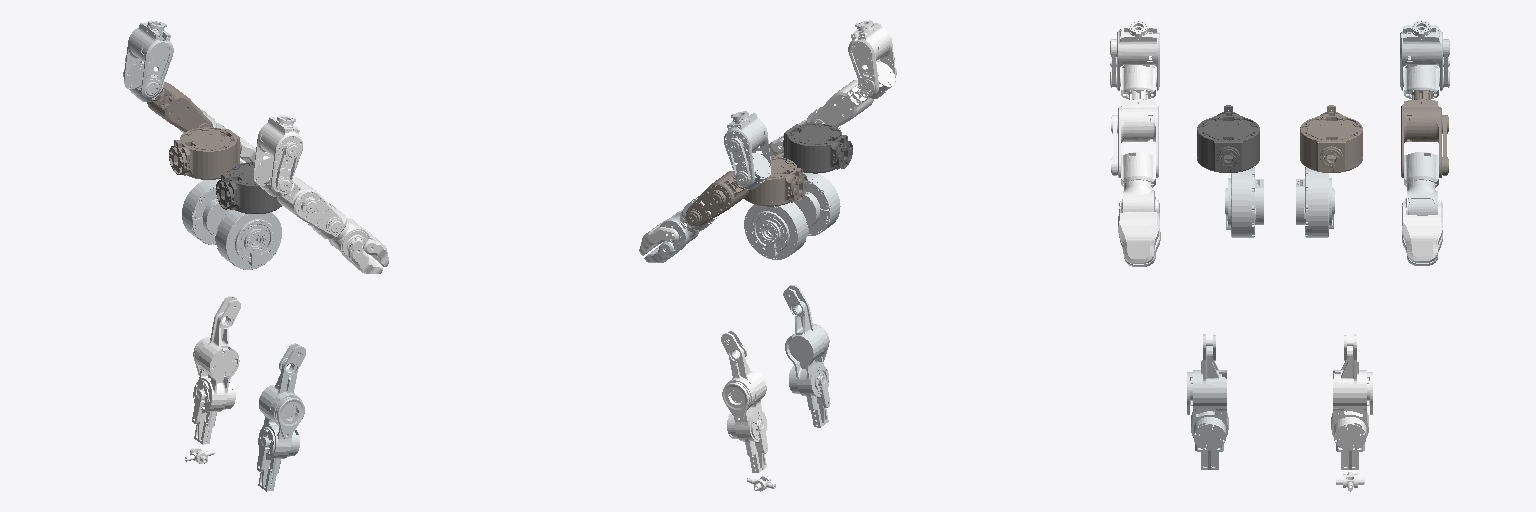
--- What the picture shows (computed from the rendered views, not written in the file) ---
The picture shows the robot from 3 angles, left to right: view 1: azimuth 30°, elevation 25°; view 2: azimuth 150°, elevation 25°; view 3: azimuth 270°, elevation 25°; orthographic projection.
Model Dora2 with 29 links and 28 joints (12 revolute, 16 fixed), rooted at base_link, posed every joint at zero.
Links seen in each view (by area): view 1: l_leg_knee_Link, r_leg_knee_Link, r_leg_hip_yaw_Link, l_leg_hip_roll_Link, r_arm_shoulder_yaw_Link, l_arm_shoulder_yaw_Link, r_leg_hip_roll_Link, l_leg_hip_yaw_Link, r_arm_wrist_yaw1_Link, l_arm_wrist_yaw1_Link, r_arm_claw_link, r_arm_wrist_yaw2_Link (+2 smaller); view 2: r_leg_knee_Link, l_leg_knee_Link, l_leg_hip_yaw_Link, r_leg_hip_roll_Link, l_arm_shoulder_yaw_Link, r_arm_shoulder_yaw_Link, l_leg_hip_roll_Link, r_leg_hip_yaw_Link, l_arm_wrist_yaw1_Link, r_arm_wrist_yaw1_Link, l_arm_wrist_yaw2_Link, l_arm_claw_link (+1 smaller); view 3: l_leg_knee_Link, r_leg_knee_Link, l_leg_hip_roll_Link, r_leg_hip_roll_Link, r_arm_wrist_yaw2_Link, l_arm_wrist_yaw1_Link, r_arm_wrist_yaw1_Link, r_leg_hip_yaw_Link, l_leg_hip_yaw_Link, l_arm_shoulder_yaw_Link, r_arm_shoulder_yaw_Link, l_arm_claw_link (+5 smaller).
Boxes of the visible links, <box> form: l_leg_knee_Link: <box>192,296,240,444</box>; r_leg_knee_Link: <box>257,343,305,491</box>; r_leg_hip_yaw_Link: <box>215,210,281,269</box>; l_leg_hip_roll_Link: <box>169,127,241,179</box>; r_arm_shoulder_yaw_Link: <box>253,115,302,193</box>; l_arm_shoulder_yaw_Link: <box>123,20,173,98</box>; r_leg_hip_roll_Link: <box>216,162,281,213</box>; l_leg_hip_yaw_Link: <box>182,179,229,244</box>; r_arm_wrist_yaw1_Link: <box>277,177,342,234</box>; l_arm_wrist_yaw1_Link: <box>147,82,212,131</box>; r_arm_claw_link: <box>342,230,382,273</box>; r_arm_wrist_yaw2_Link: <box>329,218,388,266</box>; r_leg_knee_Link: <box>783,285,830,427</box>; l_leg_knee_Link: <box>721,330,767,472</box>; l_leg_hip_yaw_Link: <box>744,202,808,259</box>; r_leg_hip_roll_Link: <box>783,123,852,173</box>; l_arm_shoulder_yaw_Link: <box>724,111,771,186</box>; r_arm_shoulder_yaw_Link: <box>848,20,896,95</box>; l_leg_hip_roll_Link: <box>744,156,807,206</box>; r_leg_hip_yaw_Link: <box>794,172,840,235</box>; l_arm_wrist_yaw1_Link: <box>685,171,748,225</box>; r_arm_wrist_yaw1_Link: <box>810,80,873,127</box>; l_arm_wrist_yaw2_Link: <box>644,210,699,262</box>; l_arm_claw_link: <box>639,220,678,255</box>; l_leg_knee_Link: <box>1331,334,1372,469</box>; r_leg_knee_Link: <box>1187,334,1228,469</box>; l_leg_hip_roll_Link: <box>1300,105,1362,172</box>; r_leg_hip_roll_Link: <box>1197,105,1259,172</box>; r_arm_wrist_yaw2_Link: <box>1118,180,1158,263</box>; l_arm_wrist_yaw1_Link: <box>1401,90,1448,177</box>; r_arm_wrist_yaw1_Link: <box>1111,90,1158,177</box>; r_leg_hip_yaw_Link: <box>1225,167,1263,237</box>; l_leg_hip_yaw_Link: <box>1296,167,1334,237</box>; l_arm_shoulder_yaw_Link: <box>1400,20,1449,90</box>; r_arm_shoulder_yaw_Link: <box>1110,20,1159,90</box>; l_arm_claw_link: <box>1402,197,1442,262</box>.
Size in the robot's own frame: 0.2883 by 0.5944 by 0.8828 metres.
19 mesh visuals loaded from 29 distinct referenced files (19 binary STL); not drawn: 10 (reference not matched to a file when rendering).

URDF robot description (Dora2):
<?xml version="1.0" encoding="utf-8"?>
<!-- This URDF was automatically created by SolidWorks to URDF Exporter! Originally created by Stephen Brawner ([email redacted]) 
     Commit Version: 1.6.0-4-g7f85cfe  Build Version: 1.6.7995.38578
     For more information, please see http://wiki.ros.org/sw_urdf_exporter -->
<robot
  name="Dora2">
   <link
    name="base_link">
    <inertial>
      <origin
        xyz="-0.026491 -5.0156E-08 0.050159"
        rpy="0 0 0" />
      <mass
        value="10.009" />
      <inertia
        ixx="0.034427"
        ixy="-9.2543E-07"
        ixz="1.0661E-05"
        iyy="0.023503"
        iyz="1.2551E-05"
        izz="0.022038" />
    </inertial>
    <visual>
      <origin
        xyz="0 0 0"
        rpy="0 0 0" />
      <geometry>
        <mesh
          filename="../meshes_7Dof/base_link.STL" />
      </geometry>
      <material
        name="">
        <color
          rgba="0.89804 0.91765 0.92941 1" />
      </material>
    </visual>
    <!-- <collision>
      <origin
        xyz="0 0 0"
        rpy="0 0 0" />
      <geometry>
        <mesh
          filename="../meshes_7Dof/base_link.STL" />
      </geometry>
    </collision> -->
    <collision>
      <origin
        xyz="0 0. 0.1"
        rpy="0 0 0" />
      <geometry>
        <box size="0.25 0.22 0.32"/>
      </geometry>
    </collision>
  </link>
  <link
    name="l_arm_shoulder_pitch_Link">
    <inertial>
      <origin
        xyz="0.0012154 0.0085194 0.04695"
        rpy="0 0 0" />
      <mass
        value="0.59249" />
      <inertia
        ixx="0.00026821"
        ixy="-1.588E-06"
        ixz="-3.7101E-06"
        iyy="0.00020453"
        iyz="-8.9591E-06"
        izz="0.00021179" />
    </inertial>
    <visual>
      <origin
        xyz="0 0 0"
        rpy="0 0 0" />
      <geometry>
        <mesh
          filename="../meshes_7Dof/l_arm_shoulder_pitch_Link.STL" />
      </geometry>
      <material
        name="">
        <color
          rgba="0.64706 0.61961 0.58824 1" />
      </material>
    </visual>
    <!-- <collision>
      <origin
        xyz="0 0 0"
        rpy="0 0 0" />
      <geometry>
        <mesh
          filename="../meshes_7Dof/l_arm_shoulder_pitch_Link.STL" />
      </geometry>
    </collision> -->
  </link>
  <joint
    name="l_arm_shoulder_pitch_joint"
    type="fixed">
    <origin
      xyz="-0.00094467 0.18217 0.2078"
      rpy="-1.2217 0.2618 0" />
    <parent
      link="base_link" />
    <child
      link="l_arm_shoulder_pitch_Link" />
    <axis
      xyz="0 0 1" />
    <limit
      lower="-2"
      upper="2"
      effort="36"
      velocity="6.28" />
  </joint>
  <link
    name="l_arm_shoulder_roll_Link">
    <inertial>
      <origin
        xyz="6.5565E-05 -2.5633E-06 -0.058315"
        rpy="0 0 0" />
      <mass
        value="0.53087" />
      <inertia
        ixx="0.00033546"
        ixy="-5.1467E-08"
        ixz="-4.6685E-05"
        iyy="0.00037342"
        iyz="7.4288E-09"
        izz="0.00026136" />
    </inertial>
    <visual>
      <origin
        xyz="0 0 0"
        rpy="0 0 0" />
      <geometry>
        <mesh
          filename="../meshes_7Dof/l_arm_shoulder_roll_Link.STL" />
      </geometry>
      <material
        name="">
        <color
          rgba="0.89804 0.91765 0.92941 1" />
      </material>
    </visual>
    <!-- <collision>
      <origin
        xyz="0 0 0"
        rpy="0 0 0" />
      <geometry>
        <mesh
          filename="../meshes_7Dof/l_arm_shoulder_roll_Link.STL" />
      </geometry>
    </collision> -->
  </link>
  <joint
    name="l_arm_shoulder_roll_joint"
    type="fixed">
    <origin
      xyz="0.00094467 0.013172 0.064412"
      rpy="1.2217 0 0" />
    <parent
      link="l_arm_shoulder_pitch_Link" />
    <child
      link="l_arm_shoulder_roll_Link" />
    <axis
      xyz="1 0 0" />
    <limit
      lower="-3"
      upper="0"
      effort="36"
      velocity="6.28" />
  </joint>
  <link
    name="l_arm_shoulder_yaw_Link">
    <inertial>
      <origin
        xyz="0.0011882 0.0067383 -0.053586"
        rpy="0 0 0" />
      <mass
        value="0.67878" />
      <inertia
        ixx="0.00031565"
        ixy="2.9333E-08"
        ixz="-7.6862E-08"
        iyy="0.0003551"
        iyz="1.395E-05"
        izz="0.00023355" />
    </inertial>
    <visual>
      <origin
        xyz="0 0 0"
        rpy="0 0 0" />
      <geometry>
        <mesh
          filename="../meshes_7Dof/l_arm_shoulder_yaw_Link.STL" />
      </geometry>
      <material
        name="">
        <color
          rgba="0.89804 0.91765 0.92941 1" />
      </material>
    </visual>
    <!-- <collision>
      <origin
        xyz="0 0 0"
        rpy="0 0 0" />
      <geometry>
        <mesh
          filename="../meshes_7Dof/l_arm_shoulder_yaw_Link.STL" />
      </geometry>
    </collision> -->
  </link>
  <joint
    name="l_arm_shoulder_yaw_joint"
    type="fixed">
    <origin
      xyz="-0.0012652 0 -0.094377"
      rpy="0 0 0" />
    <parent
      link="l_arm_shoulder_roll_Link" />
    <child
      link="l_arm_shoulder_yaw_Link" />
    <axis
      xyz="0 0 1" />
    <limit
      lower="-2"
      upper="2"
      effort="36"
      velocity="6.28" />
  </joint>
  <link
    name="l_arm_elbow_Link">
    <inertial>
      <origin
        xyz="5.8478E-06 5.3289E-05 -0.0048248"
        rpy="0 0 0" />
      <mass
        value="0.44883" />
      <inertia
        ixx="0.00016487"
        ixy="-2.9245E-07"
        ixz="-1.6498E-07"
        iyy="0.00014407"
        iyz="2.8015E-08"
        izz="0.0002086" />
    </inertial>
    <visual>
      <origin
        xyz="0 0 0"
        rpy="0 0 0" />
      <geometry>
        <mesh
          filename="../meshes_7Dof/l_arm_elbow_Link.STL" />
      </geometry>
      <material
        name="">
        <color
          rgba="0.89804 0.91765 0.92941 1" />
      </material>
    </visual>
    <!-- <collision>
      <origin
        xyz="0 0 0"
        rpy="0 0 0" />
      <geometry>
        <mesh
          filename="../meshes_7Dof/l_arm_elbow_Link.STL" />
      </geometry>
    </collision> -->
  </link>
  <joint
    name="l_arm_elbow_joint"
    type="fixed">
    <origin
      xyz="0.0012652 0 -0.11612"
      rpy="0 -1.047 0" />
    <parent
      link="l_arm_shoulder_yaw_Link" />
    <child
      link="l_arm_elbow_Link" />
    <axis
      xyz="0 1 0" />
    <limit
      lower="-1.5"
      upper="1.5"
      effort="36"
      velocity="6.28" />
  </joint>
  <link
    name="l_arm_wrist_yaw1_Link">
    <inertial>
      <origin
        xyz="0.00063942 0.0031627 -0.057666"
        rpy="0 0 0" />
      <mass
        value="0.81511" />
      <inertia
        ixx="0.00035549"
        ixy="-3.7663E-08"
        ixz="-1.9544E-07"
        iyy="0.00043001"
        iyz="1.7696E-05"
        izz="0.00024625" />
    </inertial>
    <visual>
      <origin
        xyz="0 0 0"
        rpy="0 0 0" />
      <geometry>
        <mesh
          filename="../meshes_7Dof/l_arm_wrist_yaw1_Link.STL" />
      </geometry>
      <material
        name="">
        <color
          rgba="0.64706 0.61961 0.58824 1" />
      </material>
    </visual>
    <collision>
      <origin
        xyz="0 0 0"
        rpy="0 0 0" />
      <geometry>
        <mesh
          filename="../meshes_7Dof/l_arm_wrist_yaw1_Link.STL" />
      </geometry>
    </collision>
  </link>
  <joint
    name="l_arm_wrist_yaw1_joint"
    type="fixed">
    <origin
      xyz="-0.00068626 2.7758E-05 -0.033039"
      rpy="0 0 0" />
    <parent
      link="l_arm_elbow_Link" />
    <child
      link="l_arm_wrist_yaw1_Link" />
    <axis
      xyz="0 0 1" />
    <limit
      lower="0"
      upper="0"
      effort="36"
      velocity="6.28" />
  </joint>
  <link
    name="l_arm_wrist_pitch_Link">
    <inertial>
      <origin
        xyz="-8.7585E-07 -5.7309E-05 -0.0094885"
        rpy="0 0 0" />
      <mass
        value="0.44562" />
      <inertia
        ixx="0.00016272"
        ixy="3.1754E-07"
        ixz="-1.954E-07"
        iyy="0.00014662"
        iyz="-2.7335E-08"
        izz="0.00020462" />
    </inertial>
    <visual>
      <origin
        xyz="0 0 0"
        rpy="0 0 0" />
      <geometry>
        <mesh
          filename="../meshes_7Dof/l_arm_wrist_pitch_Link.STL" />
      </geometry>
      <material
        name="">
        <color
          rgba="0.89804 0.91765 0.92941 1" />
      </material>
    </visual>
    <!-- <collision>
      <origin
        xyz="0 0 0"
        rpy="0 0 0" />
      <geometry>
        <mesh
          filename="../meshes_7Dof/l_arm_wrist_pitch_Link.STL" />
      </geometry>
    </collision> -->
  </link>
  <joint
    name="l_arm_wrist_pitch_joint"
    type="fixed">
    <origin
      xyz="0.00068626 -2.7758E-05 -0.12886"
      rpy="0 0 0" />
    <parent
      link="l_arm_wrist_yaw1_Link" />
    <child
      link="l_arm_wrist_pitch_Link" />
    <axis
      xyz="0 1 0" />
    <limit
      lower="0"
      upper="0"
      effort="0"
      velocity="0" />
  </joint>
  <link
    name="l_arm_wrist_yaw2_Link">
    <inertial>
      <origin
        xyz="-0.0046238 0.001297 -0.051174"
        rpy="0 0 0" />
      <mass
        value="0.66283" />
      <inertia
        ixx="0.00030582"
        ixy="-3.1183E-06"
        ixz="-6.7398E-06"
        iyy="0.00032338"
        iyz="1.0341E-05"
        izz="0.00024221" />
    </inertial>
    <visual>
      <origin
        xyz="0 0 0"
        rpy="0 0 0" />
      <geometry>
        <mesh
          filename="../meshes_7Dof/l_arm_wrist_yaw2_Link.STL" />
      </geometry>
      <material
        name="">
        <color
          rgba="0.89804 0.91765 0.92941 1" />
      </material>
    </visual>
    <!-- <collision>
      <origin
        xyz="0 0 0"
        rpy="0 0 0" />
      <geometry>
        <mesh
          filename="../meshes_7Dof/l_arm_wrist_yaw2_Link.STL" />
      </geometry>
    </collision> -->
  </link>
  <joint
    name="l_arm_wrist_yaw2_joint"
    type="fixed">
    <origin
      xyz="0.0012607 -0.00010591 -0.033777"
      rpy="0 0 0" />
    <parent
      link="l_arm_wrist_pitch_Link" />
    <child
      link="l_arm_wrist_yaw2_Link" />
    <axis
      xyz="0 0 1" />
    <limit
      lower="0"
      upper="0"
      effort="0"
      velocity="0" />
  </joint>
  <link
    name="l_arm_claw_link">
    <inertial>
      <origin
        xyz="0.014927 -0.00021226 -0.047831"
        rpy="0 0 0" />
      <mass
        value="0.13307" />
      <inertia
        ixx="0.00016061"
        ixy="-3.6552E-06"
        ixz="1.1664E-05"
        iyy="0.00011707"
        iyz="1.0687E-05"
        izz="7.2166E-05" />
    </inertial>
    <visual>
      <origin
        xyz="0 0 0"
        rpy="0 0 0" />
      <geometry>
        <mesh
          filename="../meshes_7Dof/l_arm_claw_link.STL" />
      </geometry>
      <material
        name="">
        <color
          rgba="1 1 1 1" />
      </material>
    </visual>
    <collision>
      <origin
        xyz="0 0 0"
        rpy="0 0 0" />
      <geometry>
        <mesh
          filename="../meshes_7Dof/l_arm_claw_link.STL" />
      </geometry>
    </collision>
  </link>
  <joint
    name="l_arm_claw_joint"
    type="fixed">
    <origin
      xyz="0.00013819 0.00010591 -0.045636"
      rpy="0 0 0" />
    <parent
      link="l_arm_wrist_yaw2_Link" />
    <child
      link="l_arm_claw_link" />
    <axis
      xyz="0 1 0" />
    <limit
      lower="0"
      upper="0"
      effort="0"
      velocity="0" />
  </joint>

  <link
    name="r_arm_shoulder_pitch_Link">
    <inertial>
      <origin
        xyz="0.0012156 -0.0085193 0.04695"
        rpy="0 0 0" />
      <mass
        value="0.59248" />
      <inertia
        ixx="0.00026821"
        ixy="1.5881E-06"
        ixz="-3.7098E-06"
        iyy="0.00020453"
        iyz="8.9597E-06"
        izz="0.00021179" />
    </inertial>
    <visual>
      <origin
        xyz="0 0 0"
        rpy="0 0 0" />
      <geometry>
        <mesh
          filename="../meshes_7Dof/r_arm_shoulder_pitch_Link.STL" />
      </geometry>
      <material
        name="">
        <color
          rgba="1 1 1 1" />
      </material>
    </visual>
    <!-- <collision>
      <origin
        xyz="0 0 0"
        rpy="0 0 0" />
      <geometry>
        <mesh
          filename="../meshes_7Dof/r_arm_shoulder_pitch_Link.STL" />
      </geometry>
    </collision> -->
  </link>
  <joint
    name="r_arm_shoulder_pitch_joint"
    type="fixed">
    <origin
      xyz="-0.00094467 -0.18217 0.2078"
      rpy="1.2217 0.2618 0" />
    <parent
      link="base_link" />
    <child
      link="r_arm_shoulder_pitch_Link" />
    <axis
      xyz="0 0 1" />
    <limit
      lower="-2"
      upper="2"
      effort="36"
      velocity="6.28" />
  </joint>
  <link
    name="r_arm_shoulder_roll_Link">
    <inertial>
      <origin
        xyz="6.5061E-05 2.5217E-06 -0.058315"
        rpy="0 0 0" />
      <mass
        value="0.53088" />
      <inertia
        ixx="0.00033544"
        ixy="5.1545E-08"
        ixz="-4.6685E-05"
        iyy="0.00037344"
        iyz="-2.0186E-09"
        izz="0.00026137" />
    </inertial>
    <visual>
      <origin
        xyz="0 0 0"
        rpy="0 0 0" />
      <geometry>
        <mesh
          filename="../meshes_7Dof/r_arm_shoulder_roll_Link.STL" />
      </geometry>
      <material
        name="">
        <color
          rgba="1 1 1 1" />
      </material>
    </visual>
    <!-- <collision>
      <origin
        xyz="0 0 0"
        rpy="0 0 0" />
      <geometry>
        <mesh
          filename="../meshes_7Dof/r_arm_shoulder_roll_Link.STL" />
      </geometry>
    </collision> -->
  </link>
  <joint
    name="r_arm_shoulder_roll_joint"
    type="fixed">
    <origin
      xyz="0.00094467 -0.013172 0.064412"
      rpy="-1.2217 0 0" />
    <parent
      link="r_arm_shoulder_pitch_Link" />
    <child
      link="r_arm_shoulder_roll_Link" />
    <axis
      xyz="1 0 0" />
    <limit
      lower="0"
      upper="3"
      effort="36"
      velocity="6.28" />
  </joint>
  <link
    name="r_arm_shoulder_yaw_Link">
    <inertial>
      <origin
        xyz="0.0011882 -0.0067383 -0.053586"
        rpy="0 0 0" />
      <mass
        value="0.67878" />
      <inertia
        ixx="0.00031565"
        ixy="-2.9283E-08"
        ixz="-7.7015E-08"
        iyy="0.0003551"
        iyz="-1.395E-05"
        izz="0.00023355" />
    </inertial>
    <visual>
      <origin
        xyz="0 0 0"
        rpy="0 0 0" />
      <geometry>
        <mesh
          filename="../meshes_7Dof/r_arm_shoulder_yaw_Link.STL" />
      </geometry>
      <material
        name="">
        <color
          rgba="1 1 1 1" />
      </material>
    </visual>
    <!-- <collision>
      <origin
        xyz="0 0 0"
        rpy="0 0 0" />
      <geometry>
        <mesh
          filename="../meshes_7Dof/r_arm_shoulder_yaw_Link.STL" />
      </geometry>
    </collision> -->
  </link>
  <joint
    name="r_arm_shoulder_yaw_joint"
    type="fixed">
    <origin
      xyz="-0.0012652 0 -0.094377"
      rpy="0 0 0" />
    <parent
      link="r_arm_shoulder_roll_Link" />
    <child
      link="r_arm_shoulder_yaw_Link" />
    <axis
      xyz="0 0 1" />
    <limit
      lower="-2"
      upper="2"
      effort="0"
      velocity="0" />
  </joint>
  <link
    name="r_arm_elbow_Link">
    <inertial>
      <origin
        xyz="5.8478E-06 -5.3289E-05 -0.0048248"
        rpy="0 0 0" />
      <mass
        value="0.44883" />
      <inertia
        ixx="0.00016487"
        ixy="2.9245E-07"
        ixz="-1.6498E-07"
        iyy="0.00014407"
        iyz="-2.8015E-08"
        izz="0.0002086" />
    </inertial>
    <visual>
      <origin
        xyz="0 0 0"
        rpy="0 0 0" />
      <geometry>
        <mesh
          filename="../meshes_7Dof/r_arm_elbow_Link.STL" />
      </geometry>
      <material
        name="">
        <color
          rgba="1 1 1 1" />
      </material>
    </visual>
    <!-- <collision>
      <origin
        xyz="0 0 0"
        rpy="0 0 0" />
      <geometry>
        <mesh
          filename="../meshes_7Dof/r_arm_elbow_Link.STL" />
      </geometry>
    </collision> -->
  </link>
  <joint
    name="r_arm_elbow_joint"
    type="fixed">
    <origin
      xyz="0.0012652 0 -0.11612"
      rpy="0 -1.047 0" />
    <parent
      link="r_arm_shoulder_yaw_Link" />
    <child
      link="r_arm_elbow_Link" />
    <axis
      xyz="0 1 0" />
    <limit
      lower="-1.5"
      upper="1.5"
      effort="36"
      velocity="6.28" />
  </joint>
  <link
    name="r_arm_wrist_yaw1_Link">
    <inertial>
      <origin
        xyz="0.00063942 -0.0031627 -0.057666"
        rpy="0 0 0" />
      <mass
        value="0.81511" />
      <inertia
        ixx="0.00035549"
        ixy="3.7663E-08"
        ixz="-1.9544E-07"
        iyy="0.00043001"
        iyz="-1.7696E-05"
        izz="0.00024625" />
    </inertial>
    <visual>
      <origin
        xyz="0 0 0"
        rpy="0 0 0" />
      <geometry>
        <mesh
          filename="../meshes_7Dof/r_arm_wrist_yaw1_Link.STL" />
      </geometry>
      <material
        name="">
        <color
          rgba="1 1 1 1" />
      </material>
    </visual>
    <collision>
      <origin
        xyz="0 0 0"
        rpy="0 0 0" />
      <geometry>
        <mesh
          filename="../meshes_7Dof/r_arm_wrist_yaw1_Link.STL" />
      </geometry>
    </collision>
  </link>
  <joint
    name="r_arm_wrist_yaw1_joint"
    type="fixed">
    <origin
      xyz="-0.00068626 -2.7758E-05 -0.033039"
      rpy="0 0 0" />
    <parent
      link="r_arm_elbow_Link" />
    <child
      link="r_arm_wrist_yaw1_Link" />
    <axis
      xyz="0 0 1" />
    <limit
      lower="0"
      upper="0"
      effort="0"
      velocity="0" />
  </joint>
  <link
    name="r_arm_wrist_pitch_Link">
    <inertial>
      <origin
        xyz="-4.6206E-05 6.1016E-05 -0.010617"
        rpy="0 0 0" />
      <mass
        value="0.44562" />
      <inertia
        ixx="7.367E-05"
        ixy="-1.093E-07"
        ixz="-2.03E-07"
        iyy="5.7846E-05"
        iyz="9.4515E-09"
        izz="8.7435E-05" />
    </inertial>
    <visual>
      <origin
        xyz="0 0 0"
        rpy="0 0 0" />
      <geometry>
        <mesh
          filename="../meshes_7Dof/r_arm_wrist_pitch_Link.STL" />
      </geometry>
      <material
        name="">
        <color
          rgba="1 1 1 1" />
      </material>
    </visual>
    <!-- <collision>
      <origin
        xyz="0 0 0"
        rpy="0 0 0" />
      <geometry>
        <mesh
          filename="../meshes_7Dof/r_arm_wrist_pitch_Link.STL" />
      </geometry>
    </collision> -->
  </link>
  <joint
    name="r_arm_wrist_pitch_joint"
    type="fixed">
    <origin
      xyz="0.00068626 2.7758E-05 -0.12886"
      rpy="0 0 0" />
    <parent
      link="r_arm_wrist_yaw1_Link" />
    <child
      link="r_arm_wrist_pitch_Link" />
    <axis
      xyz="0 1 0" />
    <limit
      lower="0"
      upper="0"
      effort="0"
      velocity="0" />
  </joint>
  <link
    name="r_arm_wrist_yaw2_Link">
    <inertial>
      <origin
        xyz="0.0074699 0.0029676 -0.055476"
        rpy="0 0 0" />
      <mass
        value="0.66283" />
      <inertia
        ixx="0.00021748"
        ixy="2.4815E-06"
        ixz="7.3738E-06"
        iyy="0.00020586"
        iyz="9.927E-06"
        izz="0.00015306" />
    </inertial>
    <visual>
      <origin
        xyz="0 0 0"
        rpy="0 0 0" />
      <geometry>
        <mesh
          filename="../meshes_7Dof/r_arm_wrist_yaw2_Link.STL" />
      </geometry>
      <material
        name="">
        <color
          rgba="1 1 1 1" />
      </material>
    </visual>
    <!-- <collision>
      <origin
        xyz="0 0 0"
        rpy="0 0 0" />
      <geometry>
        <mesh
          filename="../meshes_7Dof/r_arm_wrist_yaw2_Link.STL" />
      </geometry>
    </collision> -->
  </link>
  <joint
    name="r_arm_wrist_yaw2_joint"
    type="fixed">
    <origin
      xyz="-0.0012648 -3.2137E-05 -0.033777"
      rpy="0 0 0" />
    <parent
      link="r_arm_wrist_pitch_Link" />
    <child
      link="r_arm_wrist_yaw2_Link" />
    <axis
      xyz="0 0 1" />
    <limit
      lower="0"
      upper="0"
      effort="0"
      velocity="0" />
  </joint>
  <link
    name="r_arm_claw_link">
    <inertial>
      <origin
        xyz="-0.017709 0.00074094 -0.047831"
        rpy="0 0 0" />
      <mass
        value="0.13307" />
      <inertia
        ixx="0.00016088"
        ixy="1.0932E-06"
        ixz="-1.102E-05"
        iyy="0.00011679"
        iyz="1.135E-05"
        izz="7.2165E-05" />
    </inertial>
    <visual>
      <origin
        xyz="0 0 0"
        rpy="0 0 0" />
      <geometry>
        <mesh
          filename="../meshes_7Dof/r_arm_claw_link.STL" />
      </geometry>
      <material
        name="">
        <color
          rgba="1 1 1 1" />
      </material>
    </visual>
    <collision>
      <origin
        xyz="0 0 0"
        rpy="0 0 0" />
      <geometry>
        <mesh
          filename="../meshes_7Dof/r_arm_claw_link.STL" />
      </geometry>
    </collision>
  </link>
  <joint
    name="r_arm_claw_joint"
    type="fixed">
    <origin
      xyz="0.0026637 3.2137E-05 -0.045636"
      rpy="0 0 0" />
    <parent
      link="r_arm_wrist_yaw2_Link" />
    <child
      link="r_arm_claw_link" />
    <axis
      xyz="0 1 0" />
    <limit
      lower="1"
      upper="1"
      effort="1"
      velocity="1" />
  </joint>



  <link
    name="l_leg_hip_roll_Link">
    <inertial>
      <origin
        xyz="0.073997 -2.6118E-05 -0.00038831"
        rpy="0 0 0" />
      <mass
        value="1.2237" />
      <inertia
        ixx="0.0010875"
        ixy="2.5346E-06"
        ixz="4.9227E-06"
        iyy="0.0012014"
        iyz="-2.996E-07"
        izz="0.0021103" />
    </inertial>
    <visual>
      <origin
        xyz="0 0 0"
        rpy="0 0 0" />
      <geometry>
        <mesh
          filename="../meshes_7Dof/l_leg_hip_roll_Link.STL" />
      </geometry>
      <material
        name="">
        <color
          rgba="0.64706 0.61961 0.58824 1" />
      </material>
    </visual>
    <!-- <collision>
      <origin
        xyz="0 0 0"
        rpy="0 0 0" />
      <geometry>
        <mesh
          filename="../meshes_7Dof/l_leg_hip_roll_Link.STL" />
      </geometry>
    </collision> -->
  </link>
  <joint
    name="l_leg_hip_roll_joint"
    type="revolute">
    <origin
      xyz="-0.0792 0.09002 -0.085"
      rpy="0 0 0" />
    <parent
      link="base_link" />
    <child
      link="l_leg_hip_roll_Link" />
    <axis
      xyz="1 0 0" />
    <limit
      lower="-0.3"
      upper="1"
      effort="90"
      velocity="12" />
  </joint>
  <link
    name="l_leg_hip_yaw_Link">
    <inertial>
      <origin
        xyz="0.00018298 -0.018275 -0.069994"
        rpy="0 0 0" />
      <mass
        value="1.5439" />
      <inertia
        ixx="0.0016181"
        ixy="1.229E-06"
        ixz="-2.3738E-06"
        iyy="0.0028764"
        iyz="2.6967E-06"
        izz="0.0014519" />
    </inertial>
    <visual>
      <origin
        xyz="0 0 0"
        rpy="0 0 0" />
      <geometry>
        <mesh
          filename="../meshes_7Dof/l_leg_hip_yaw_Link.STL" />
      </geometry>
      <material
        name="">
        <color
          rgba="0.89804 0.91765 0.92941 1" />
      </material>
    </visual>
    <collision>
      <origin
        xyz="0 0 0"
        rpy="0 0 0" />
      <geometry>
        <mesh
          filename="../meshes_7Dof/l_leg_hip_yaw_Link.STL" />
      </geometry>
    </collision>
  </link>
  <joint
    name="l_leg_hip_yaw_joint"
    type="revolute">
    <origin
      xyz="0.0815 0 -0.0375"
      rpy="0 0 0" />
    <parent
      link="l_leg_hip_roll_Link" />
    <child
      link="l_leg_hip_yaw_Link" />
    <axis
      xyz="0 0 1" />
    <limit
      lower="-0.75"
      upper="1.05"
      effort="90"
      velocity="12" />
  </joint>
  <link
    name="l_leg_hip_pitch_Link">
    <inertial>
      <origin
        xyz="0.00263050346808996 0.0505924691116392 -0.0509281264870309"
        rpy="0 0 0" />
      <mass
        value="2.63780166885626" />
      <inertia
        ixx="0.0128050639410327"
        ixy="-7.30670824907572E-06"
        ixz="0.00012322434413997"
        iyy="0.0146659167630542"
        iyz="0.000182392843008207"
        izz="0.00218142025359868" />
    </inertial>
    <visual>
      <origin
        xyz="0 0 0"
        rpy="0 0 0" />
      <geometry>
        <mesh
          filename="../meshes_7Dof/l_leg_hip_pitch_Link.STL" />
      </geometry>
      <material
        name="">
        <color
          rgba="1 1 1 1" />
      </material>
    </visual>
    <collision>
      <origin
        xyz="0 0 0"
        rpy="0 0 0" />
      <geometry>
        <mesh
          filename="../meshes_7Dof/l_leg_hip_pitch_Link.STL" />
      </geometry>
    </collision>
  </link>
  <joint
    name="l_leg_hip_pitch_joint"
    type="revolute">
    <origin
      xyz="0 0 -0.076"
      rpy="0 -0.2 0" />
    <parent
      link="l_leg_hip_yaw_Link" />
    <child
      link="l_leg_hip_pitch_Link" />
    <axis
      xyz="0 1 0" />
    <limit
      lower="-1.12"
      upper="0.88"
      effort="150"
      velocity="12" />
  </joint>
  <link
    name="l_leg_knee_Link">
    <inertial>
      <origin
        xyz="0.0026677 0.0022197 -0.12804"
        rpy="0 0 0" />
      <mass
        value="1.3457" />
      <inertia
        ixx="0.0022506"
        ixy="-2.3667E-06"
        ixz="-2.2148E-05"
        iyy="0.0022436"
        iyz="-4.5481E-05"
        izz="0.00046377" />
    </inertial>
    <visual>
      <origin
        xyz="0 0 0"
        rpy="0 0 0" />
      <geometry>
        <mesh
          filename="../meshes_7Dof/l_leg_knee_Link.STL" />
      </geometry>
      <material
        name="">
        <color
          rgba="1 1 1 1" />
      </material>
    </visual>
    <collision>
      <origin
        xyz="0 0 0"
        rpy="0 0 0" />
      <geometry>
        <mesh
          filename="../meshes_7Dof/l_leg_knee_Link.STL" />
      </geometry>
    </collision>
  </link>
  <joint
    name="l_leg_knee_joint"
    type="revolute">
    <origin
      xyz="0 0.032659 -0.27"
      rpy="0 0.4 0" />
    <parent
      link="l_leg_hip_pitch_Link" />
    <child
      link="l_leg_knee_Link" />
    <axis
      xyz="0 1 0" />
    <limit
      lower="-0.28"
      upper="1.6"
      effort="150"
      velocity="12" />
  </joint>
  <link
    name="l_leg_ankle_pitch_Link">
    <inertial>
      <origin
        xyz="0.0010416 3.8669E-09 -9.735E-10"
        rpy="0 0 0" />
      <mass
        value="0.089954" />
      <inertia
        ixx="1.1624E-05"
        ixy="6.8819E-12"
        ixz="-6.205E-13"
        iyy="1.4297E-05"
        iyz="7.1496E-13"
        izz="2.1929E-05" />
    </inertial>
    <visual>
      <origin
        xyz="0 0 0"
        rpy="0 0 0" />
      <geometry>
        <mesh
          filename="../meshes_7Dof/l_leg_ankle_pitch_Link.STL" />
      </geometry>
      <material
        name="">
        <color
          rgba="1 1 1 1" />
      </material>
    </visual>
    <!-- <collision>
      <origin
        xyz="0 0 0"
        rpy="0 0 0" />
      <geometry>
        <mesh
          filename="../meshes_7Dof/l_leg_ankle_pitch_Link.STL" />
      </geometry>
    </collision> -->
  </link>
  <joint
    name="l_leg_ankle_pitch_joint"
    type="revolute">
    <origin
      xyz="0 0 -0.28"
      rpy="0 -0.2 0" />
    <parent
      link="l_leg_knee_Link" />
    <child
      link="l_leg_ankle_pitch_Link" />
    <axis
      xyz="0 1 0" />
    <limit
      lower="-0.68"
      upper="0.88"
      effort="27"
      velocity="12" />
  </joint>
  <link
    name="l_leg_ankle_roll_Link">
    <inertial>
      <origin
        xyz="0.0095635 2.5209E-05 -0.027782"
        rpy="0 0 0" />
      <mass
        value="0.44211" />
      <inertia
        ixx="0.00017944"
        ixy="-9.8037E-08"
        ixz="2.0143E-05"
        iyy="0.00072413"
        iyz="4.7705E-08"
        izz="0.00087034" />
    </inertial>
    <visual>
      <origin
        xyz="0 0 0"
        rpy="0 0 0" />
      <geometry>
        <mesh
          filename="../meshes_7Dof/l_leg_ankle_roll_Link.STL" />
      </geometry>
      <material
        name="">
        <color
          rgba="1 1 1 1" />
      </material>
    </visual>
    <collision>
      <origin
        xyz="0 0 0"
        rpy="0 0 0" />
      <geometry>
        <mesh
          filename="../meshes_7Dof/l_leg_ankle_roll_Link.STL" />
      </geometry>
    </collision>
  </link>
  <joint
    name="l_leg_ankle_roll_joint"
    type="revolute">
    <origin
      xyz="0 0 0"
      rpy="0 0 0" />
    <parent
      link="l_leg_ankle_pitch_Link" />
    <child
      link="l_leg_ankle_roll_Link" />
    <axis
      xyz="1 0 0" />
    <limit
      lower="-0.5"
      upper="0.5"
      effort="36"
      velocity="12" />
  </joint>
  <link
    name="r_leg_hip_roll_Link">
    <inertial>
      <origin
        xyz="0.073997 -2.6118E-05 -0.00038831"
        rpy="0 0 0" />
      <mass
        value="1.2237" />
      <inertia
        ixx="0.0010875"
        ixy="2.5346E-06"
        ixz="4.9227E-06"
        iyy="0.0012014"
        iyz="-2.996E-07"
        izz="0.0021103" />
    </inertial>
    <visual>
      <origin
        xyz="0 0 0"
        rpy="0 0 0" />
      <geometry>
        <mesh
          filename="../meshes_7Dof/r_leg_hip_roll_Link.STL" />
      </geometry>
      <material
        name="">
        <color
          rgba="0.49804 0.49804 0.49804 1" />
      </material>
    </visual>
    <!-- <collision>
      <origin
        xyz="0 0 0"
        rpy="0 0 0" />
      <geometry>
        <mesh
          filename="../meshes_7Dof/r_leg_hip_roll_Link.STL" />
      </geometry>
    </collision> -->
  </link>
  <joint
    name="r_leg_hip_roll_joint"
    type="revolute">
    <origin
      xyz="-0.0792 -0.09002 -0.085"
      rpy="0 0 0" />
    <parent
      link="base_link" />
    <child
      link="r_leg_hip_roll_Link" />
    <axis
      xyz="1 0 0" />
    <limit
      lower="-1"
      upper="0.3"
      effort="90"
      velocity="12" />
  </joint>
  <link
    name="r_leg_hip_yaw_Link">
    <inertial>
      <origin
        xyz="0.00018298 0.018275 -0.069994"
        rpy="0 0 0" />
      <mass
        value="1.5439" />
      <inertia
        ixx="0.0016181"
        ixy="1.229E-06"
        ixz="-2.3738E-06"
        iyy="0.0028764"
        iyz="-2.6967E-06"
        izz="0.0014519" />
    </inertial>
    <visual>
      <origin
        xyz="0 0 0"
        rpy="0 0 0" />
      <geometry>
        <mesh
          filename="../meshes_7Dof/r_leg_hip_yaw_Link.STL" />
      </geometry>
      <material
        name="">
        <color
          rgba="0.89804 0.91765 0.92941 1" />
      </material>
    </visual>
    <collision>
      <origin
        xyz="0 0 0"
        rpy="0 0 0" />
      <geometry>
        <mesh
          filename="../meshes_7Dof/r_leg_hip_yaw_Link.STL" />
      </geometry>
    </collision>
  </link>
  <joint
    name="r_leg_hip_yaw_joint"
    type="revolute">
    <origin
      xyz="0.0815 0 -0.0375"
      rpy="0 0 0" />
    <parent
      link="r_leg_hip_roll_Link" />
    <child
      link="r_leg_hip_yaw_Link" />
    <axis
      xyz="0 0 1" />
    <limit
      lower="-1.05"
      upper="0.75"
      effort="90"
      velocity="12" />
  </joint>
  <link
    name="r_leg_hip_pitch_Link">
    <inertial>
      <origin
        xyz="0.00263050346808996 -0.0505924691116392 -0.0509281264870309"
        rpy="0 0 0" />
      <mass
        value="2.63780166885626" />
      <inertia
        ixx="0.0128050639410327"
        ixy="-7.30670824907572E-06"
        ixz="0.00012322434413997"
        iyy="0.0146659167630542"
        iyz="0.000182392843008207"
        izz="0.00218142025359868" />
    </inertial>
    <visual>
      <origin
        xyz="0 0 0"
        rpy="0 0 0" />
      <geometry>
        <mesh
          filename="../meshes_7Dof/r_leg_hip_pitch_Link.STL" />
      </geometry>
      <material
        name="">
        <color
          rgba="0.89804 0.91765 0.92941 1" />
      </material>
    </visual>
    <collision>
      <origin
        xyz="0 0 0"
        rpy="0 0 0" />
      <geometry>
        <mesh
          filename="../meshes_7Dof/r_leg_hip_pitch_Link.STL" />
      </geometry>
    </collision>
  </link>
  <joint
    name="r_leg_hip_pitch_joint"
    type="revolute">
    <origin
      xyz="0 0 -0.076"
      rpy="0 -0.2 0" />
    <parent
      link="r_leg_hip_yaw_Link" />
    <child
      link="r_leg_hip_pitch_Link" />
    <axis
      xyz="0 1 0" />
    <limit
      lower="-1.12"
      upper="0.88"
      effort="150"
      velocity="12" />
  </joint>
  <link
    name="r_leg_knee_Link">
    <inertial>
      <origin
        xyz="0.0026677 -0.0022197 -0.12804"
        rpy="0 0 0" />
      <mass
        value="1.3457" />
      <inertia
        ixx="0.0022506"
        ixy="2.3667E-06"
        ixz="-2.2148E-05"
        iyy="0.0022436"
        iyz="4.5481E-05"
        izz="0.00046377" />
    </inertial>
    <visual>
      <origin
        xyz="0 0 0"
        rpy="0 0 0" />
      <geometry>
        <mesh
          filename="../meshes_7Dof/r_leg_knee_Link.STL" />
      </geometry>
      <material
        name="">
        <color
          rgba="0.89804 0.91765 0.92941 1" />
      </material>
    </visual>
    <collision>
      <origin
        xyz="0 0 0"
        rpy="0 0 0" />
      <geometry>
        <mesh
          filename="../meshes_7Dof/r_leg_knee_Link.STL" />
      </geometry>
    </collision>
  </link>
  <joint
    name="r_leg_knee_joint"
    type="revolute">
    <origin
      xyz="0 -0.032659 -0.27"
      rpy="0 0.4 0" />
    <parent
      link="r_leg_hip_pitch_Link" />
    <child
      link="r_leg_knee_Link" />
    <axis
      xyz="0 1 0" />
    <limit
      lower="-0.28"
      upper="1.6"
      effort="150"
      velocity="12" />
  </joint>
  <link
    name="r_leg_ankle_pitch_Link">
    <inertial>
      <origin
        xyz="0.0010416 -3.8669E-09 -9.735E-10"
        rpy="0 0 0" />
      <mass
        value="0.089954" />
      <inertia
        ixx="1.1624E-05"
        ixy="-6.8819E-12"
        ixz="-6.205E-13"
        iyy="1.4297E-05"
        iyz="-7.1496E-13"
        izz="2.1929E-05" />
    </inertial>
    <visual>
      <origin
        xyz="0 0 0"
        rpy="0 0 0" />
      <geometry>
        <mesh
          filename="../meshes_7Dof/r_leg_ankle_pitch_Link.STL" />
      </geometry>
      <material
        name="">
        <color
          rgba="0.64706 0.61961 0.58824 1" />
      </material>
    </visual>
    <!-- <collision>
      <origin
        xyz="0 0 0"
        rpy="0 0 0" />
      <geometry>
        <mesh
          filename="../meshes_7Dof/r_leg_ankle_pitch_Link.STL" />
      </geometry>
    </collision> -->
  </link>
  <joint
    name="r_leg_ankle_pitch_joint"
    type="revolute">
    <origin
      xyz="0 0 -0.28"
      rpy="0 -0.2 0" />
    <parent
      link="r_leg_knee_Link" />
    <child
      link="r_leg_ankle_pitch_Link" />
    <axis
      xyz="0 1 0" />
    <limit
      lower="-0.48"
      upper="0.88"
      effort="36"
      velocity="12" />
  </joint>
  <link
    name="r_leg_ankle_roll_Link">
    <inertial>
      <origin
        xyz="0.0095635 -2.5209E-05 -0.027782"
        rpy="0 0 0" />
      <mass
        value="0.44211" />
      <inertia
        ixx="0.00017944"
        ixy="9.8037E-08"
        ixz="2.0143E-05"
        iyy="0.00072413"
        iyz="-4.7705E-08"
        izz="0.00087034" />
    </inertial>
    <visual>
      <origin
        xyz="0 0 0"
        rpy="0 0 0" />
      <geometry>
        <mesh
          filename="../meshes_7Dof/r_leg_ankle_roll_Link.STL" />
      </geometry>
      <material
        name="">
        <color
          rgba="0.89804 0.91765 0.92941 1" />
      </material>
    </visual>
    <collision>
      <origin
        xyz="0 0 0"
        rpy="0 0 0" />
      <geometry>
        <mesh
          filename="../meshes_7Dof/r_leg_ankle_roll_Link.STL" />
      </geometry>
    </collision>
  </link>
  <joint
    name="r_leg_ankle_roll_joint"
    type="revolute">
    <origin
      xyz="0 0 0"
      rpy="0 0 0" />
    <parent
      link="r_leg_ankle_pitch_Link" />
    <child
      link="r_leg_ankle_roll_Link" />
    <axis
      xyz="1 0 0" />
    <limit
      lower="-0.5"
      upper="0.5"
      effort="36"
      velocity="12" />
  </joint>
</robot>
